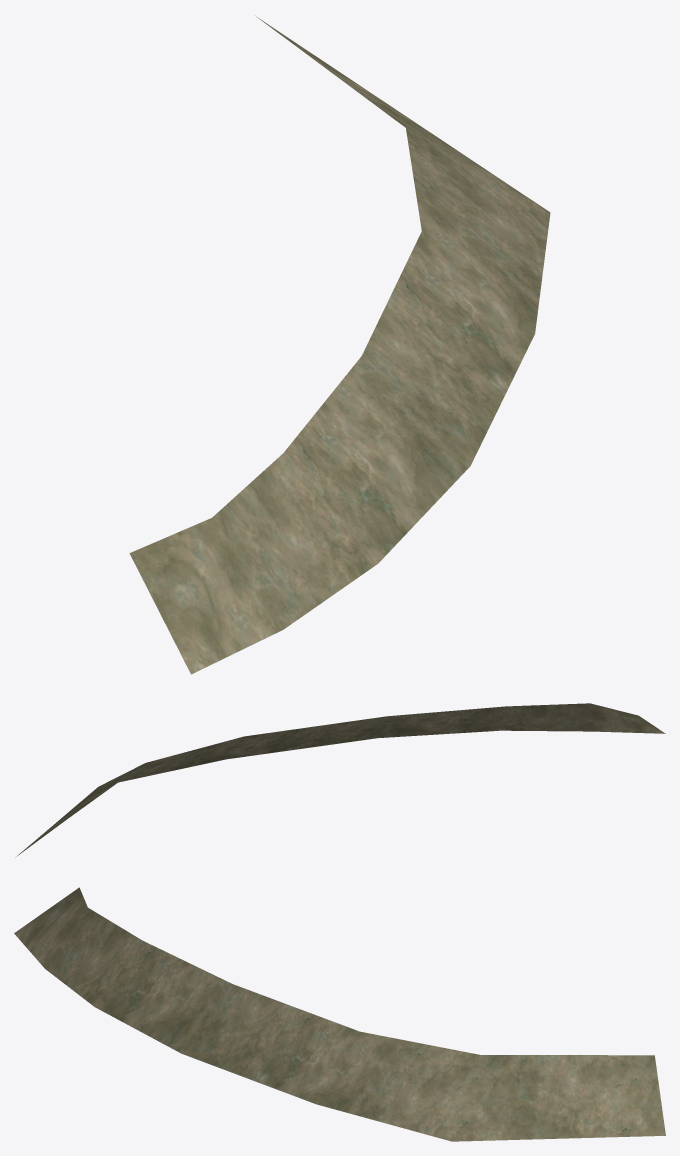
File: OVERHILL_A_01_OBJECT177.fbx
The picture shows the model from 3 angles, top to bottom: view 1: azimuth 30°, elevation 25°; view 2: azimuth 150°, elevation 25°; view 3: azimuth 270°, elevation 25°; orthographic projection. The views are drawn at different scales.
Visible parts, largest first — view 1: OVERHILL_A_01_OBJECT177; view 2: OVERHILL_A_01_OBJECT177; view 3: OVERHILL_A_01_OBJECT177.
Boxes of the visible parts, x1,y1,x2,y2 form: OVERHILL_A_01_OBJECT177: (129, 16, 550, 674); OVERHILL_A_01_OBJECT177: (15, 703, 665, 857); OVERHILL_A_01_OBJECT177: (14, 887, 665, 1141).
Bounding box in the file's own units: 215482 × 26266 × 286964.
Materials: 1 (1 with a texture image).
